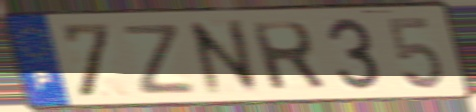3: (324, 15, 383, 94)
5: (384, 13, 446, 91)
7: (60, 21, 117, 101)
N: (183, 16, 266, 99)
R: (247, 18, 330, 93)
Z: (120, 21, 199, 97)
